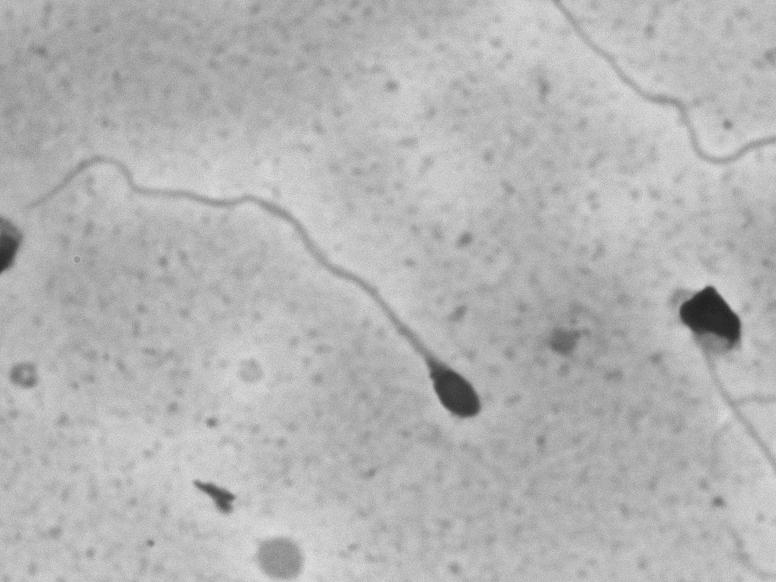Abnormal: (77, 108, 500, 453)
